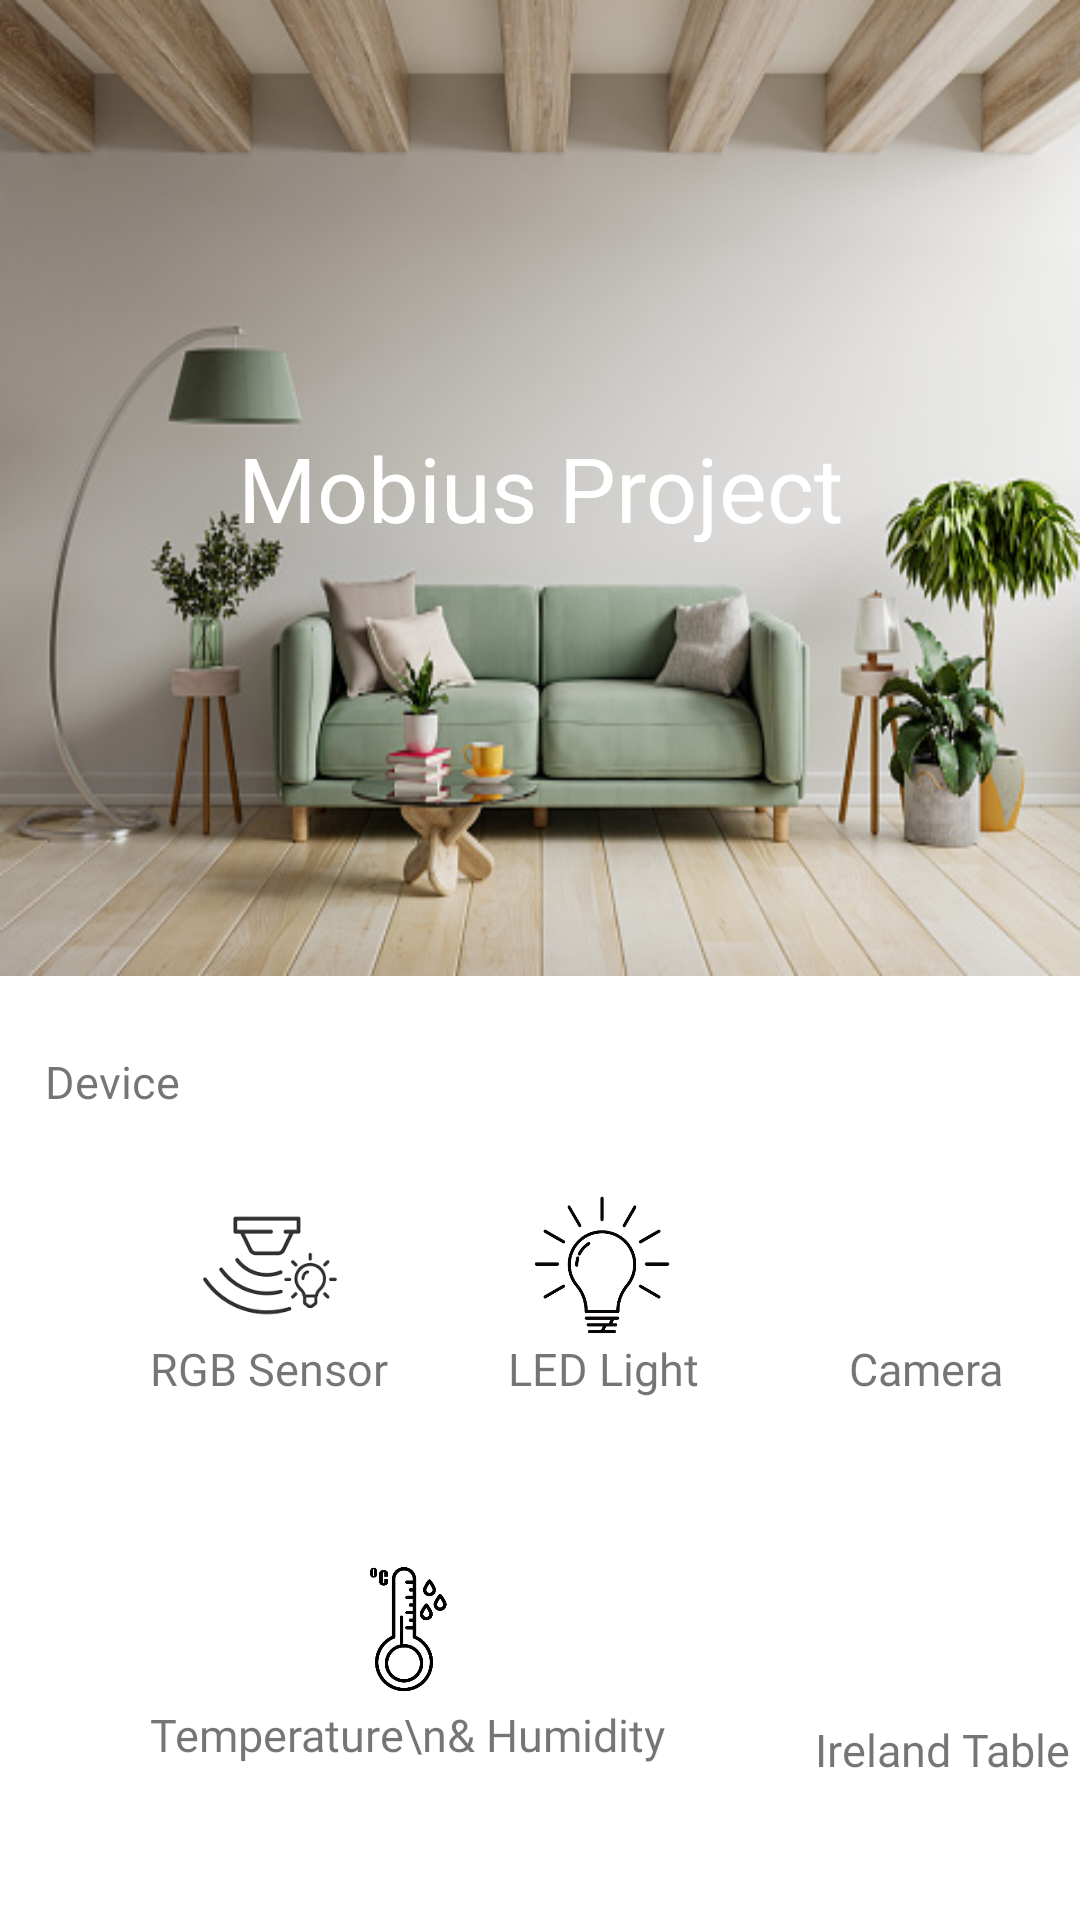

Where icons sit on this 1080*1920 app screen, as (x1, y1, x2, y2):
bulb: (535, 1196, 670, 1333)
